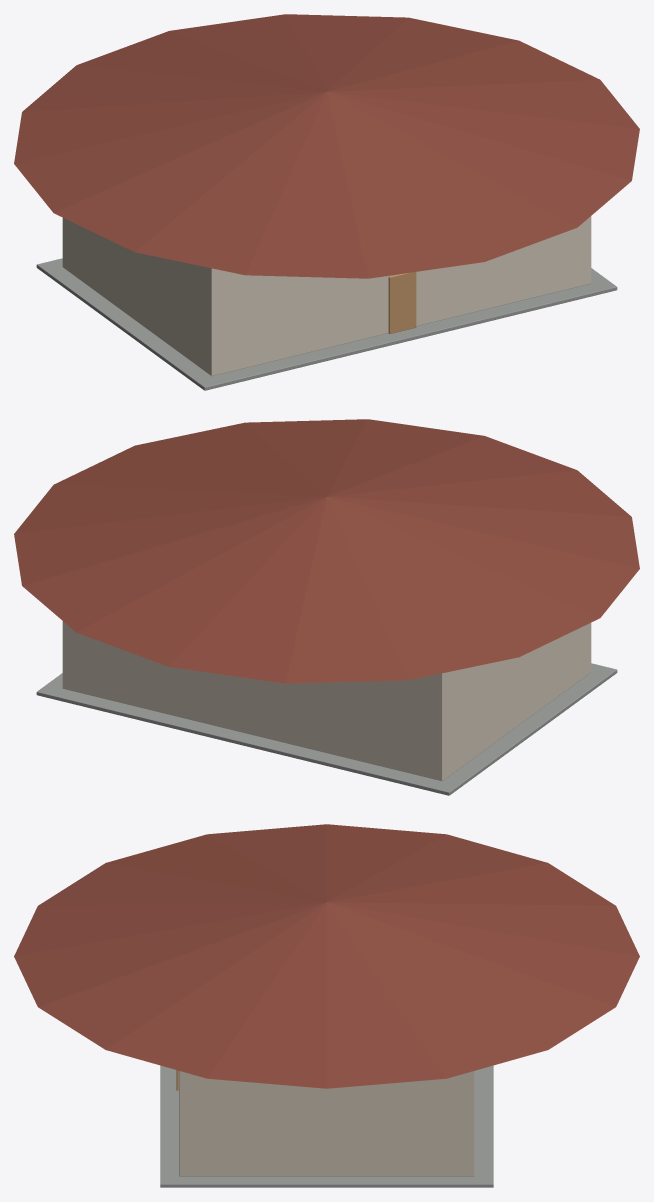
The model's file is Building_Residential_010.glb.
3 views of the same model, one above another, from view 1: azimuth 30°, elevation 25°; view 2: azimuth 150°, elevation 25°; view 3: azimuth 270°, elevation 25° (orthographic).
Parts seen in each view (by area): view 1: Building_Residential_010; view 2: Building_Residential_010; view 3: Building_Residential_010.
Boxes of the visible parts, x1=… form: Building_Residential_010: x1=14, y1=14, x2=639, y2=390; Building_Residential_010: x1=14, y1=419, x2=639, y2=795; Building_Residential_010: x1=14, y1=824, x2=639, y2=1187.
Size of the model in its own units: 25.1 by 8.22 by 25.1.
